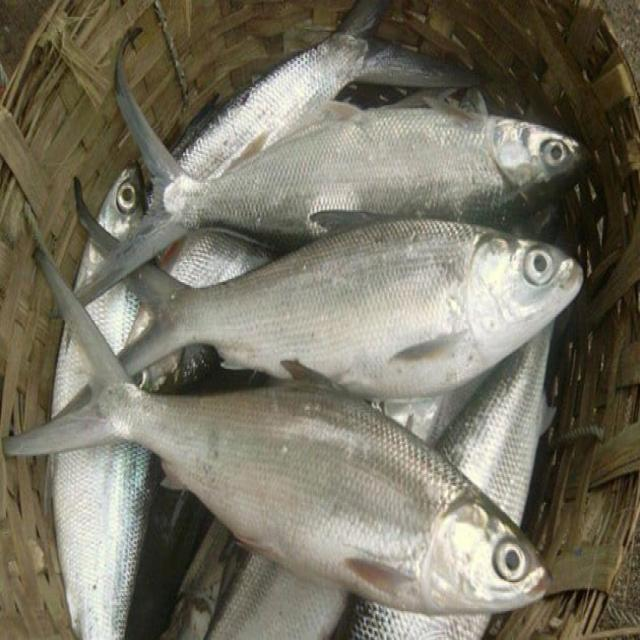Bangus: (64, 0, 579, 640)
